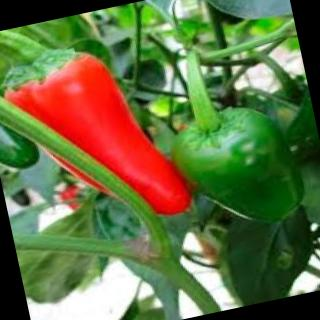Cabai Hijau: (172, 110, 305, 221)
Cabai Merah: (1, 53, 194, 217)
